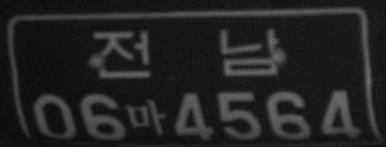0: (33, 93, 77, 140)
4: (320, 88, 361, 139), (173, 90, 213, 140)
5: (216, 90, 263, 141)
6: (265, 90, 312, 140), (80, 91, 126, 141)
마: (127, 99, 167, 136)
전남_D: (93, 26, 280, 80)
